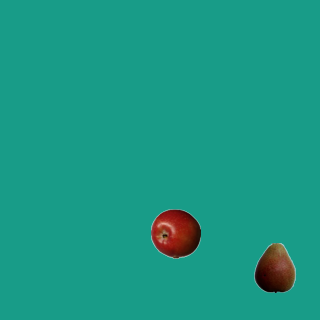Apple Braeburn: (150, 208, 200, 258)
Pear Forelle: (249, 242, 299, 292)
